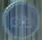bike lane: (5, 3, 39, 39)
